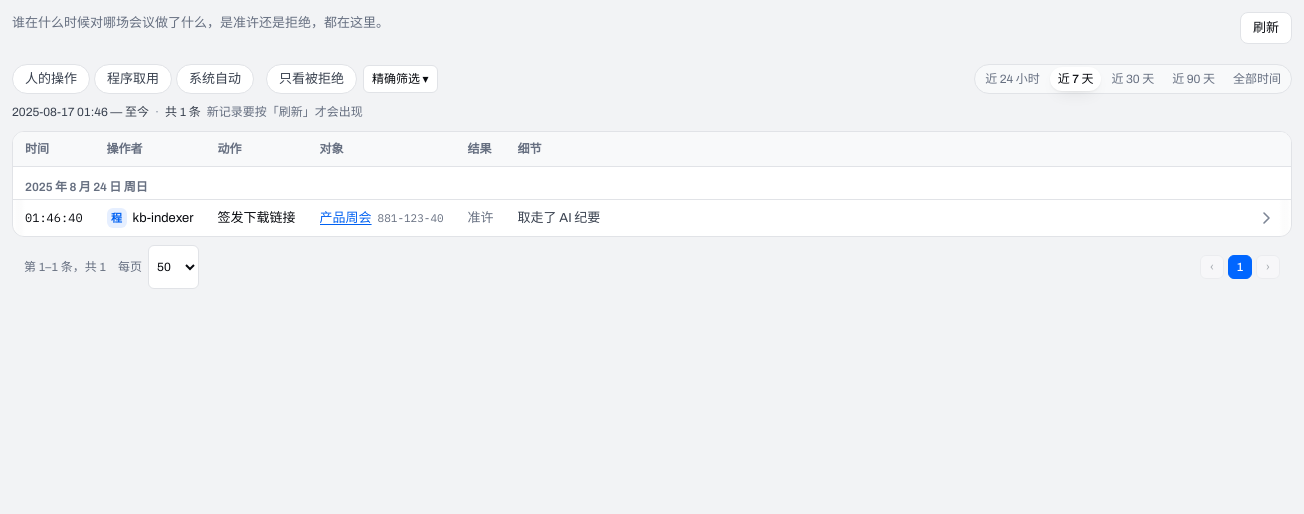
Scenario: 审计条目 › 操作者带色块与 ID；库里的 actor_type 原值在 title 与展开区，不占行
Expected: the element with test id "audit-actor-1" shows "kb-indexer", x1=133 y1=210 x2=194 y2=224
Expected: the text titled "service_account" is shown, x1=133 y1=210 x2=194 y2=227
Click the button named "完整记录": (1267, 218) x1=1255 y1=206 x2=1279 y2=230
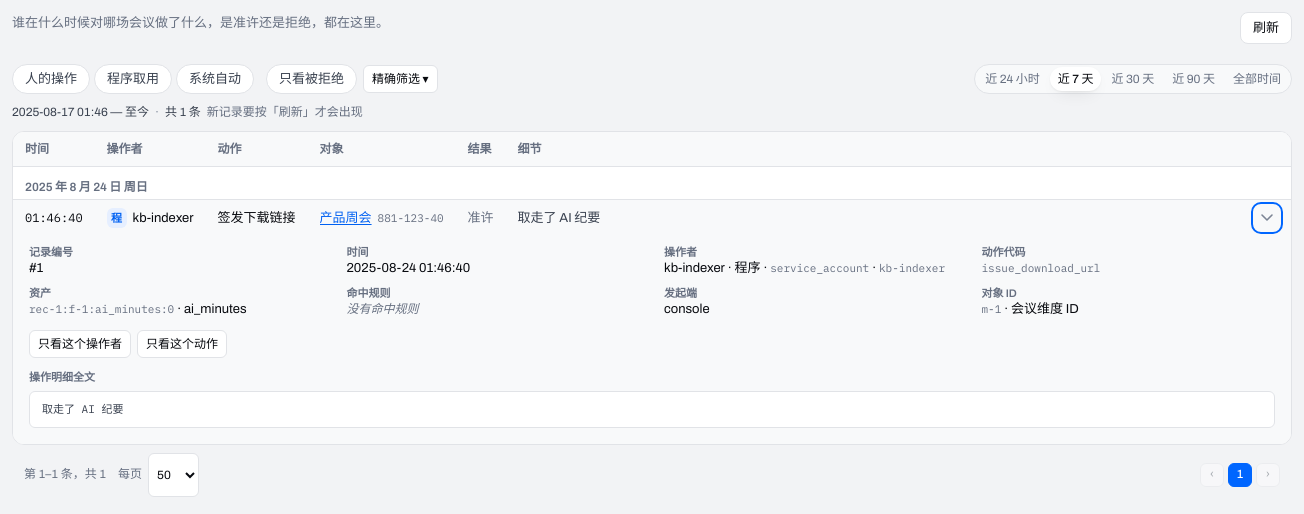
Expected: the element with test id "audit-expanded-1" shows "service_account", x1=770 y1=261 x2=869 y2=275
